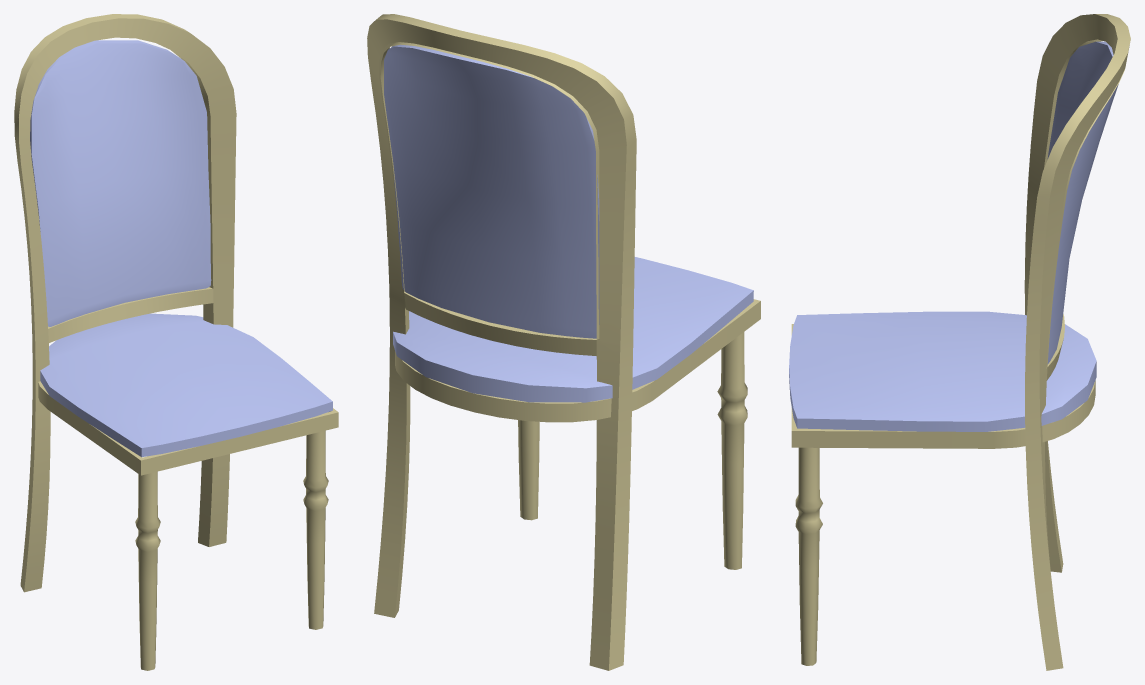
3 views of the same model, side by side, from view 1: azimuth 30°, elevation 25°; view 2: azimuth 150°, elevation 25°; view 3: azimuth 270°, elevation 25° (orthographic). The views are drawn at different scales.
Parts seen in each view (by area): view 1: chair6; view 2: chair6; view 3: chair6.
Boxes of the visible parts, bbox=[...] form: chair6: bbox=[14, 14, 338, 670]; chair6: bbox=[367, 14, 760, 670]; chair6: bbox=[789, 14, 1130, 670].
Size of the model in its own units: 41.87 by 97.07 by 51.98.
